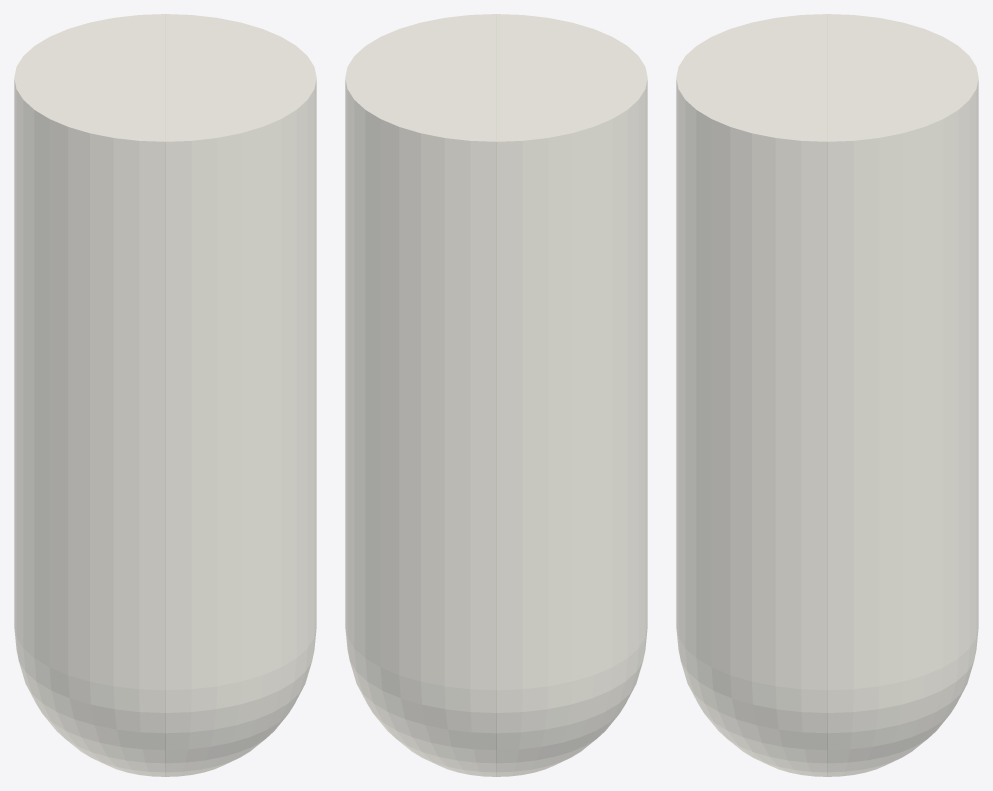
Rendered from lightRayPart.glb.
The picture shows the model from 3 angles, left to right: view 1: azimuth 30°, elevation 25°; view 2: azimuth 150°, elevation 25°; view 3: azimuth 270°, elevation 25°; orthographic projection.
Size of what is drawn, in the model's own units: 0.25 by 0.625 by 0.25.
